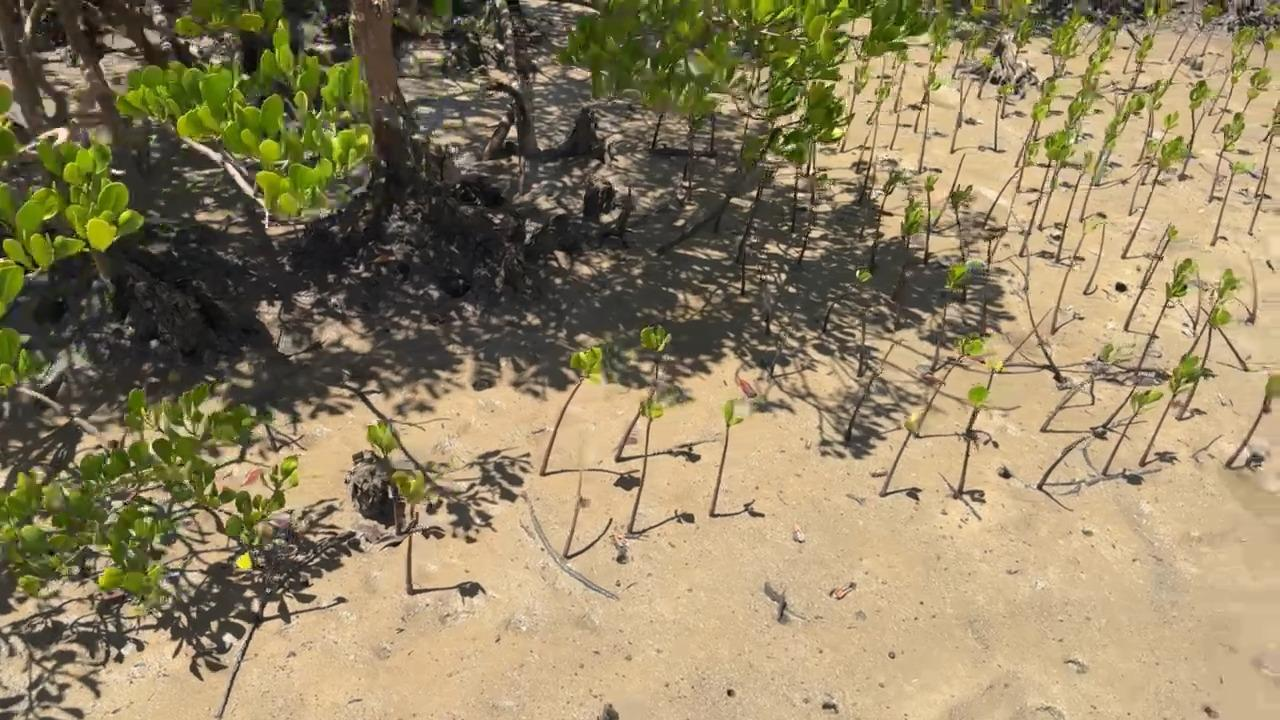Tree: (1121, 137, 1191, 261), (539, 346, 604, 477), (1140, 354, 1214, 465), (617, 323, 673, 459), (915, 338, 983, 438), (1049, 216, 1107, 331), (1040, 346, 1116, 431), (1020, 132, 1072, 256), (1137, 260, 1193, 372), (1123, 226, 1178, 332), (1102, 389, 1164, 477), (1224, 372, 1280, 468), (627, 395, 664, 533), (1183, 270, 1240, 355), (393, 468, 430, 594), (1054, 150, 1095, 260), (1078, 121, 1120, 222), (847, 345, 894, 435), (1208, 29, 1254, 116), (878, 412, 925, 497), (709, 399, 743, 516), (1168, 6, 1217, 85), (932, 265, 969, 368), (367, 419, 400, 533), (957, 387, 990, 494), (1209, 112, 1247, 202), (1212, 162, 1253, 244), (1002, 308, 1053, 372), (871, 170, 908, 257), (1026, 294, 1063, 380), (1179, 80, 1210, 178), (1039, 148, 1076, 229), (823, 269, 872, 329), (1203, 309, 1248, 372), (1037, 435, 1087, 491), (1142, 114, 1180, 187), (1212, 58, 1249, 131), (951, 0, 985, 78), (917, 71, 941, 173), (932, 154, 965, 226), (1128, 140, 1159, 213), (1137, 82, 1165, 162), (984, 168, 1022, 226), (950, 76, 977, 153), (842, 68, 867, 151), (1141, 222, 1172, 288), (947, 183, 973, 261), (1050, 124, 1082, 183), (1255, 122, 1280, 197), (1013, 108, 1044, 167), (564, 470, 584, 557), (860, 113, 880, 199), (1248, 168, 1272, 236), (993, 82, 1016, 152), (1041, 28, 1075, 75), (1101, 386, 1137, 430), (739, 187, 764, 248), (1085, 223, 1105, 294), (923, 174, 938, 262), (1243, 72, 1275, 112), (1130, 35, 1153, 89), (1067, 89, 1097, 130), (1014, 143, 1037, 192), (899, 199, 924, 244), (1245, 254, 1259, 324), (1120, 94, 1146, 131), (1146, 0, 1172, 36), (867, 85, 890, 122), (1072, 0, 1097, 33), (1088, 34, 1113, 66), (1260, 29, 1280, 69), (977, 56, 996, 97), (1187, 110, 1207, 147), (1013, 19, 1032, 56), (1262, 102, 1280, 141), (1122, 35, 1139, 75), (889, 98, 902, 150), (1168, 28, 1188, 61), (893, 64, 907, 111), (1009, 259, 1029, 290), (986, 355, 1003, 391), (1159, 112, 1180, 141), (1034, 104, 1049, 140), (791, 170, 800, 229), (1179, 301, 1196, 330), (1040, 82, 1057, 109), (1002, 83, 1014, 119), (1083, 66, 1101, 90), (859, 319, 866, 377), (1104, 18, 1124, 38), (929, 48, 946, 70), (1202, 29, 1215, 56), (962, 78, 973, 107), (740, 251, 747, 292), (799, 239, 807, 261)
